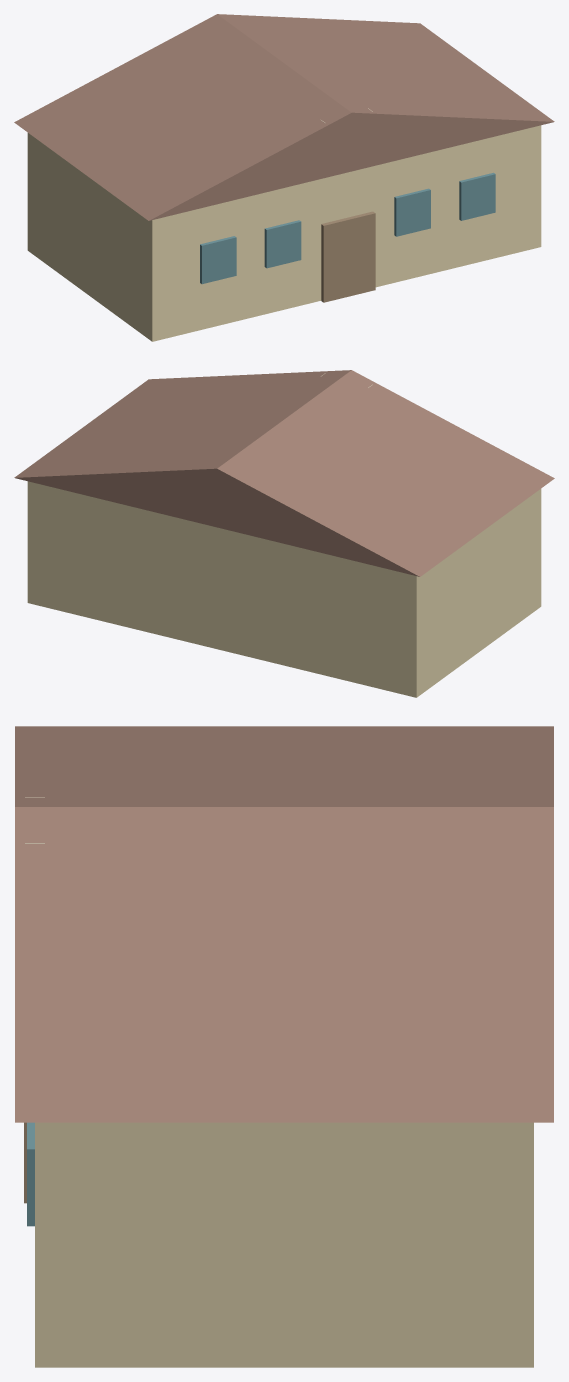
File: school.glb
3 views of the same model, one above another, from view 1: azimuth 30°, elevation 25°; view 2: azimuth 150°, elevation 25°; view 3: azimuth 270°, elevation 25° (orthographic). The views are drawn at different scales.
Bounding box in the file's own units: 9.4 × 4.1 × 5.4.
